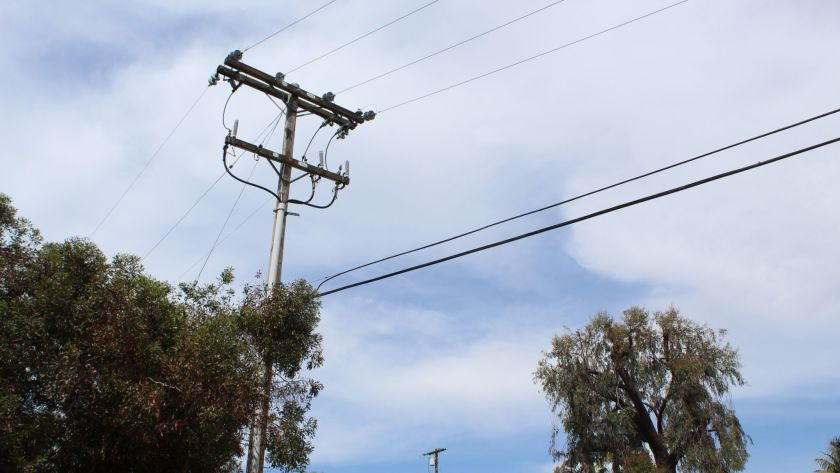utility_pole: (200, 33, 383, 233)
